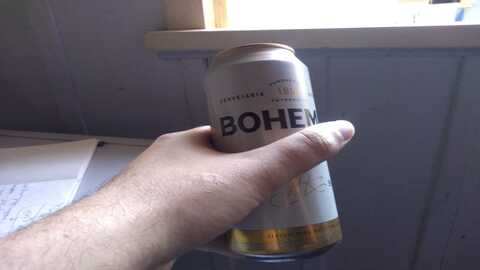bohemia: (206, 40, 343, 261)
